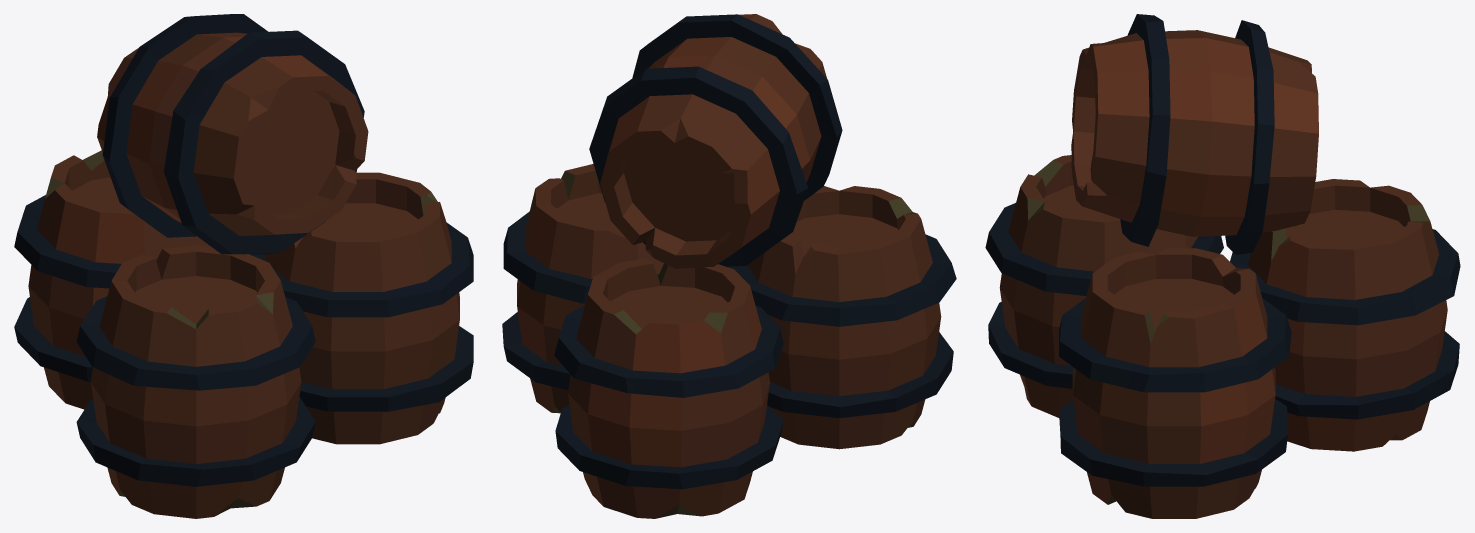
Rendered from Group Of Barrel.fbx.
The picture shows the model from 3 angles, left to right: view 1: azimuth 30°, elevation 25°; view 2: azimuth 150°, elevation 25°; view 3: azimuth 270°, elevation 25°; orthographic projection. The views are drawn at different scales.
Parts seen in each view (by area): view 1: Group Of Barrel; view 2: Group Of Barrel; view 3: Group Of Barrel.
Part boxes in pixels (x1,y1,x2,y2): Group Of Barrel: (14, 14, 473, 518); Group Of Barrel: (502, 14, 956, 518); Group Of Barrel: (985, 14, 1460, 518).
Bounding box in the file's own units: 348 × 339 × 358.
